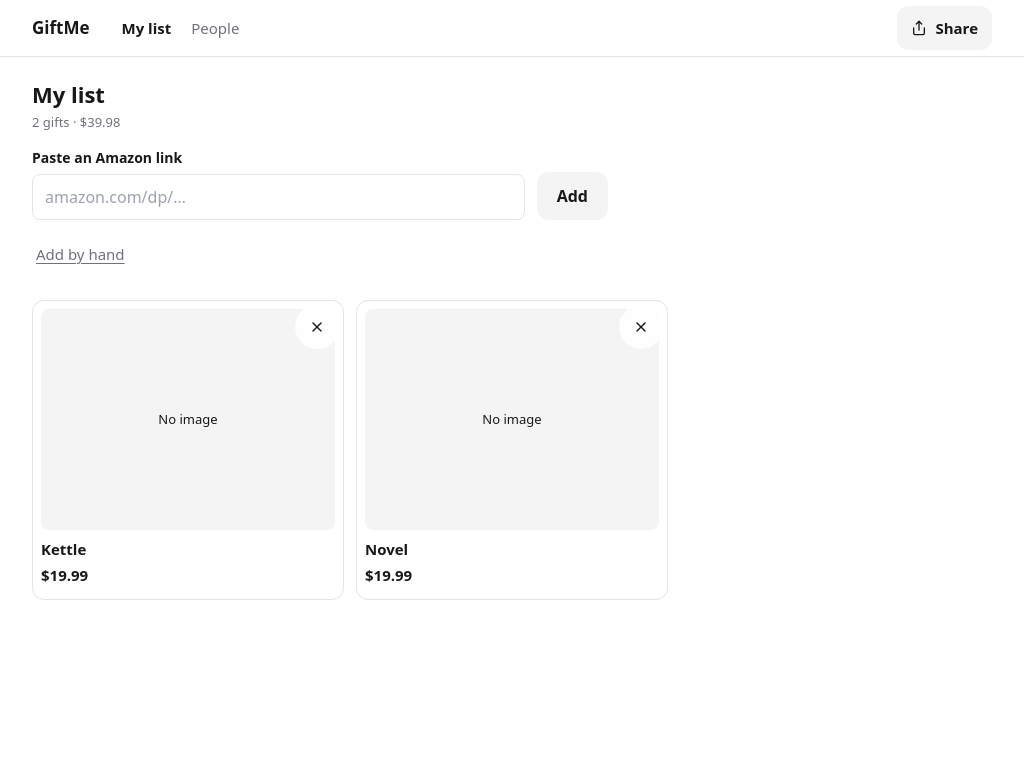
it: GiftApp › shows the save bar only when there are unsaved changes
This screenshot has width=1024, height=768.
Expected: the text "Unsaved changes" is not shown
Click the button named "Remove Novel": x=641, y=327 [619, 305, 663, 349]
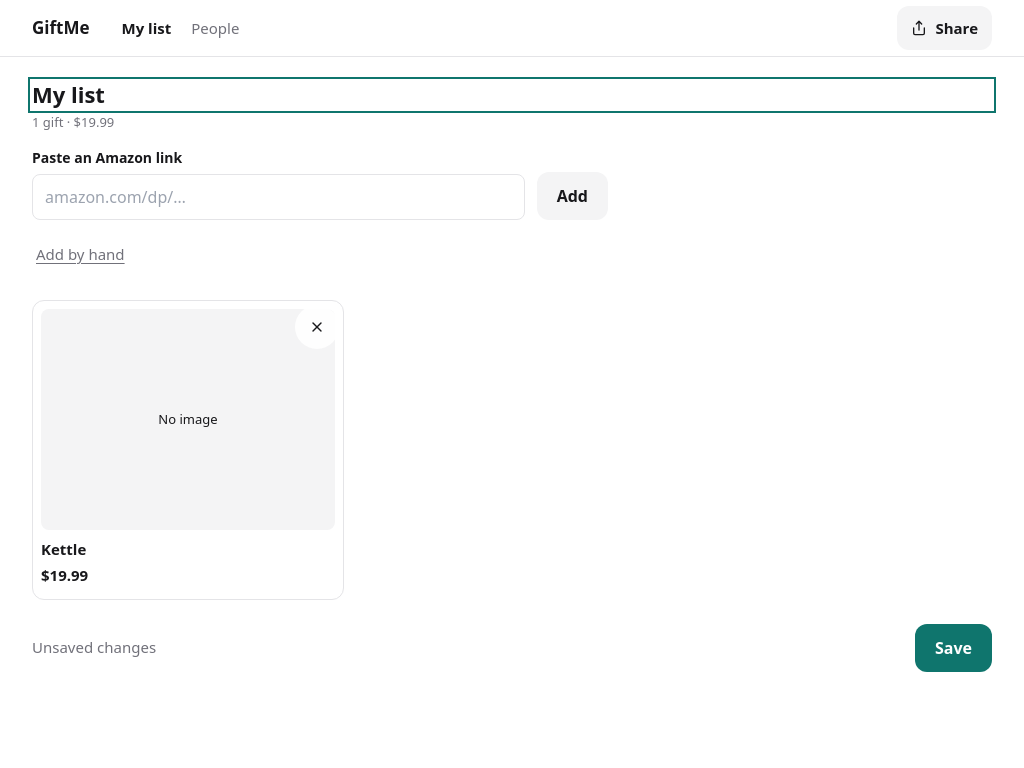
Expected: the text "Unsaved changes" is shown, [32, 637, 156, 657]
